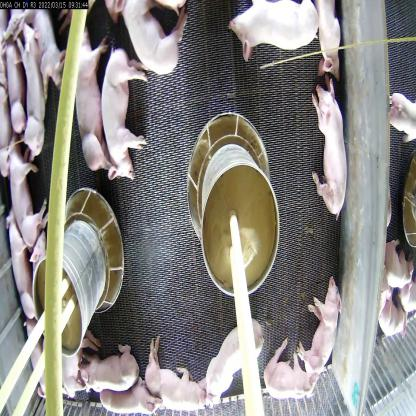Pig: (98, 41, 159, 182), (201, 307, 274, 415), (308, 274, 362, 399), (71, 30, 116, 177), (108, 0, 190, 79), (222, 0, 318, 62), (312, 73, 348, 221), (3, 137, 48, 255), (146, 336, 208, 404), (28, 1, 68, 106), (259, 350, 325, 410), (6, 212, 36, 340), (78, 342, 141, 402), (27, 328, 81, 392), (306, 0, 348, 77), (19, 36, 45, 154), (102, 382, 154, 416)
